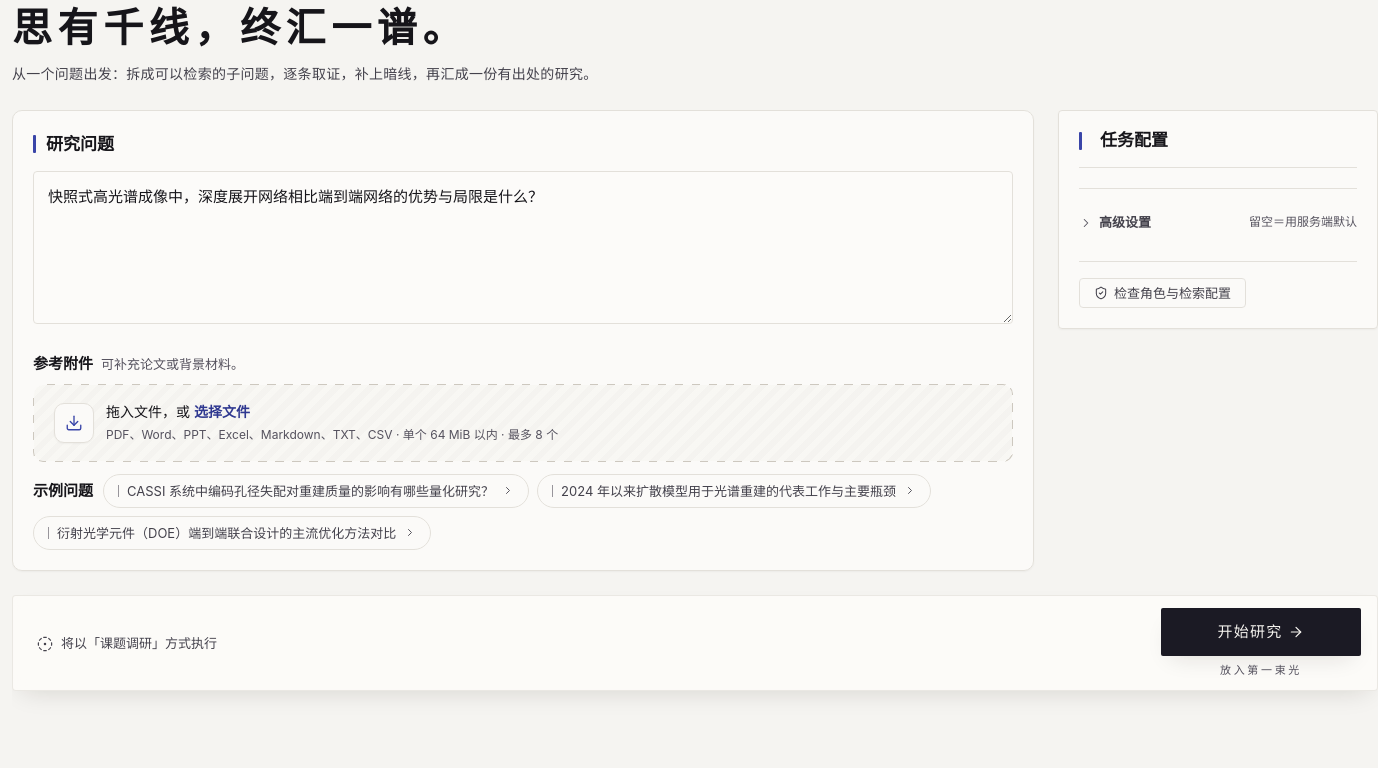
it: NewResearchPage workflow list race › 在单次覆盖为空时展示开启的全局门禁状态
Click the button "高级设置 留空＝用服务端默认". click: click(1125, 222)
box: 1069,205 -> 1367,241
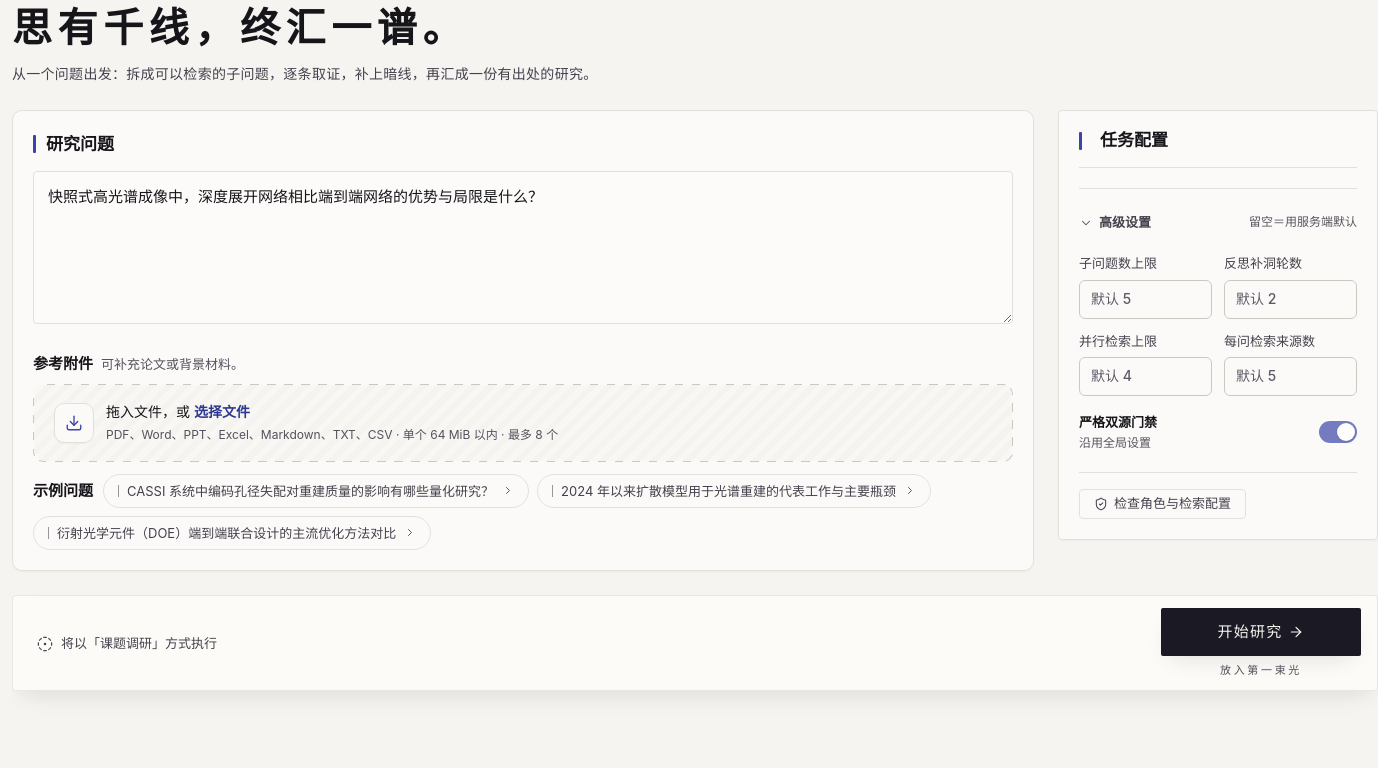
Now the switch named "本次研究启用严格双源门禁" is checked, box 1079,412 -> 1357,452
